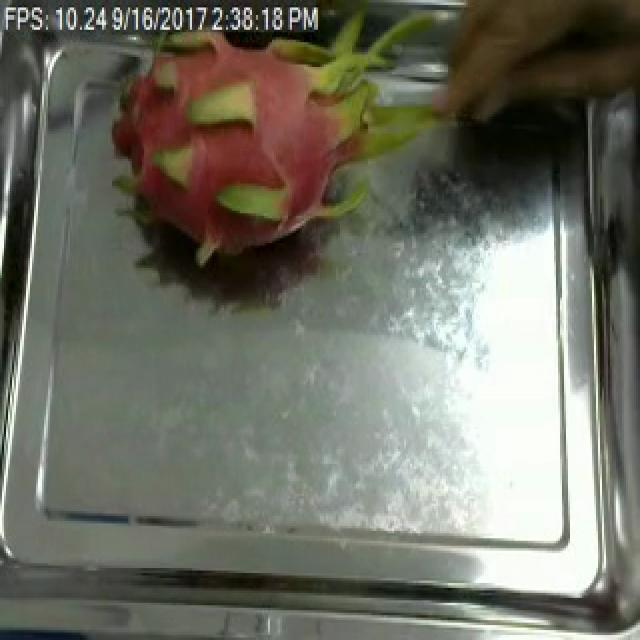fruit: (76, 0, 452, 318)
